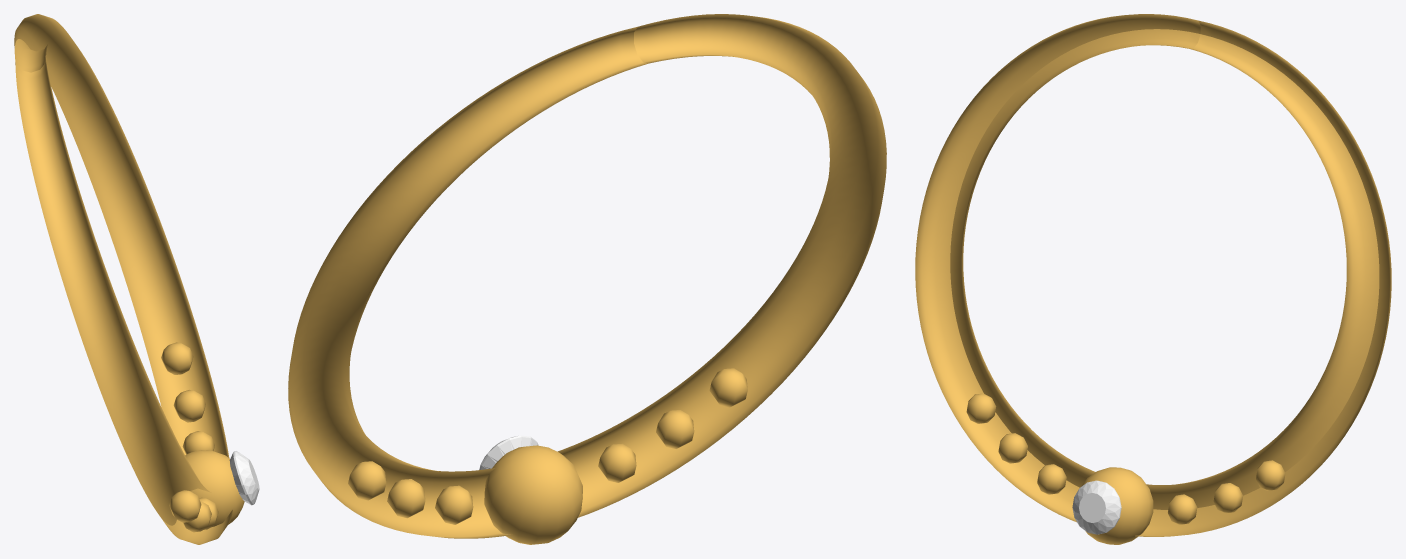
The model's file is nosering-gold.glb.
The picture shows the model from 3 angles, left to right: view 1: azimuth 30°, elevation 25°; view 2: azimuth 150°, elevation 25°; view 3: azimuth 270°, elevation 25°; orthographic projection. The views are drawn at different scales.
Parts seen in each view (by area): view 1: nosering-gold_gold22k, nosering-gold_diamond; view 2: nosering-gold_gold22k, nosering-gold_diamond; view 3: nosering-gold_gold22k, nosering-gold_diamond.
Part boxes in pixels (x1,y1,x2,y2): nosering-gold_gold22k: (14,14,244,544); nosering-gold_diamond: (229,451,259,505); nosering-gold_gold22k: (288,14,886,544); nosering-gold_diamond: (479,435,538,469); nosering-gold_gold22k: (915,14,1391,544); nosering-gold_diamond: (1072,480,1121,534).
Bounding box in the file's own units: 0.5303 × 0.8417 × 0.7913.
